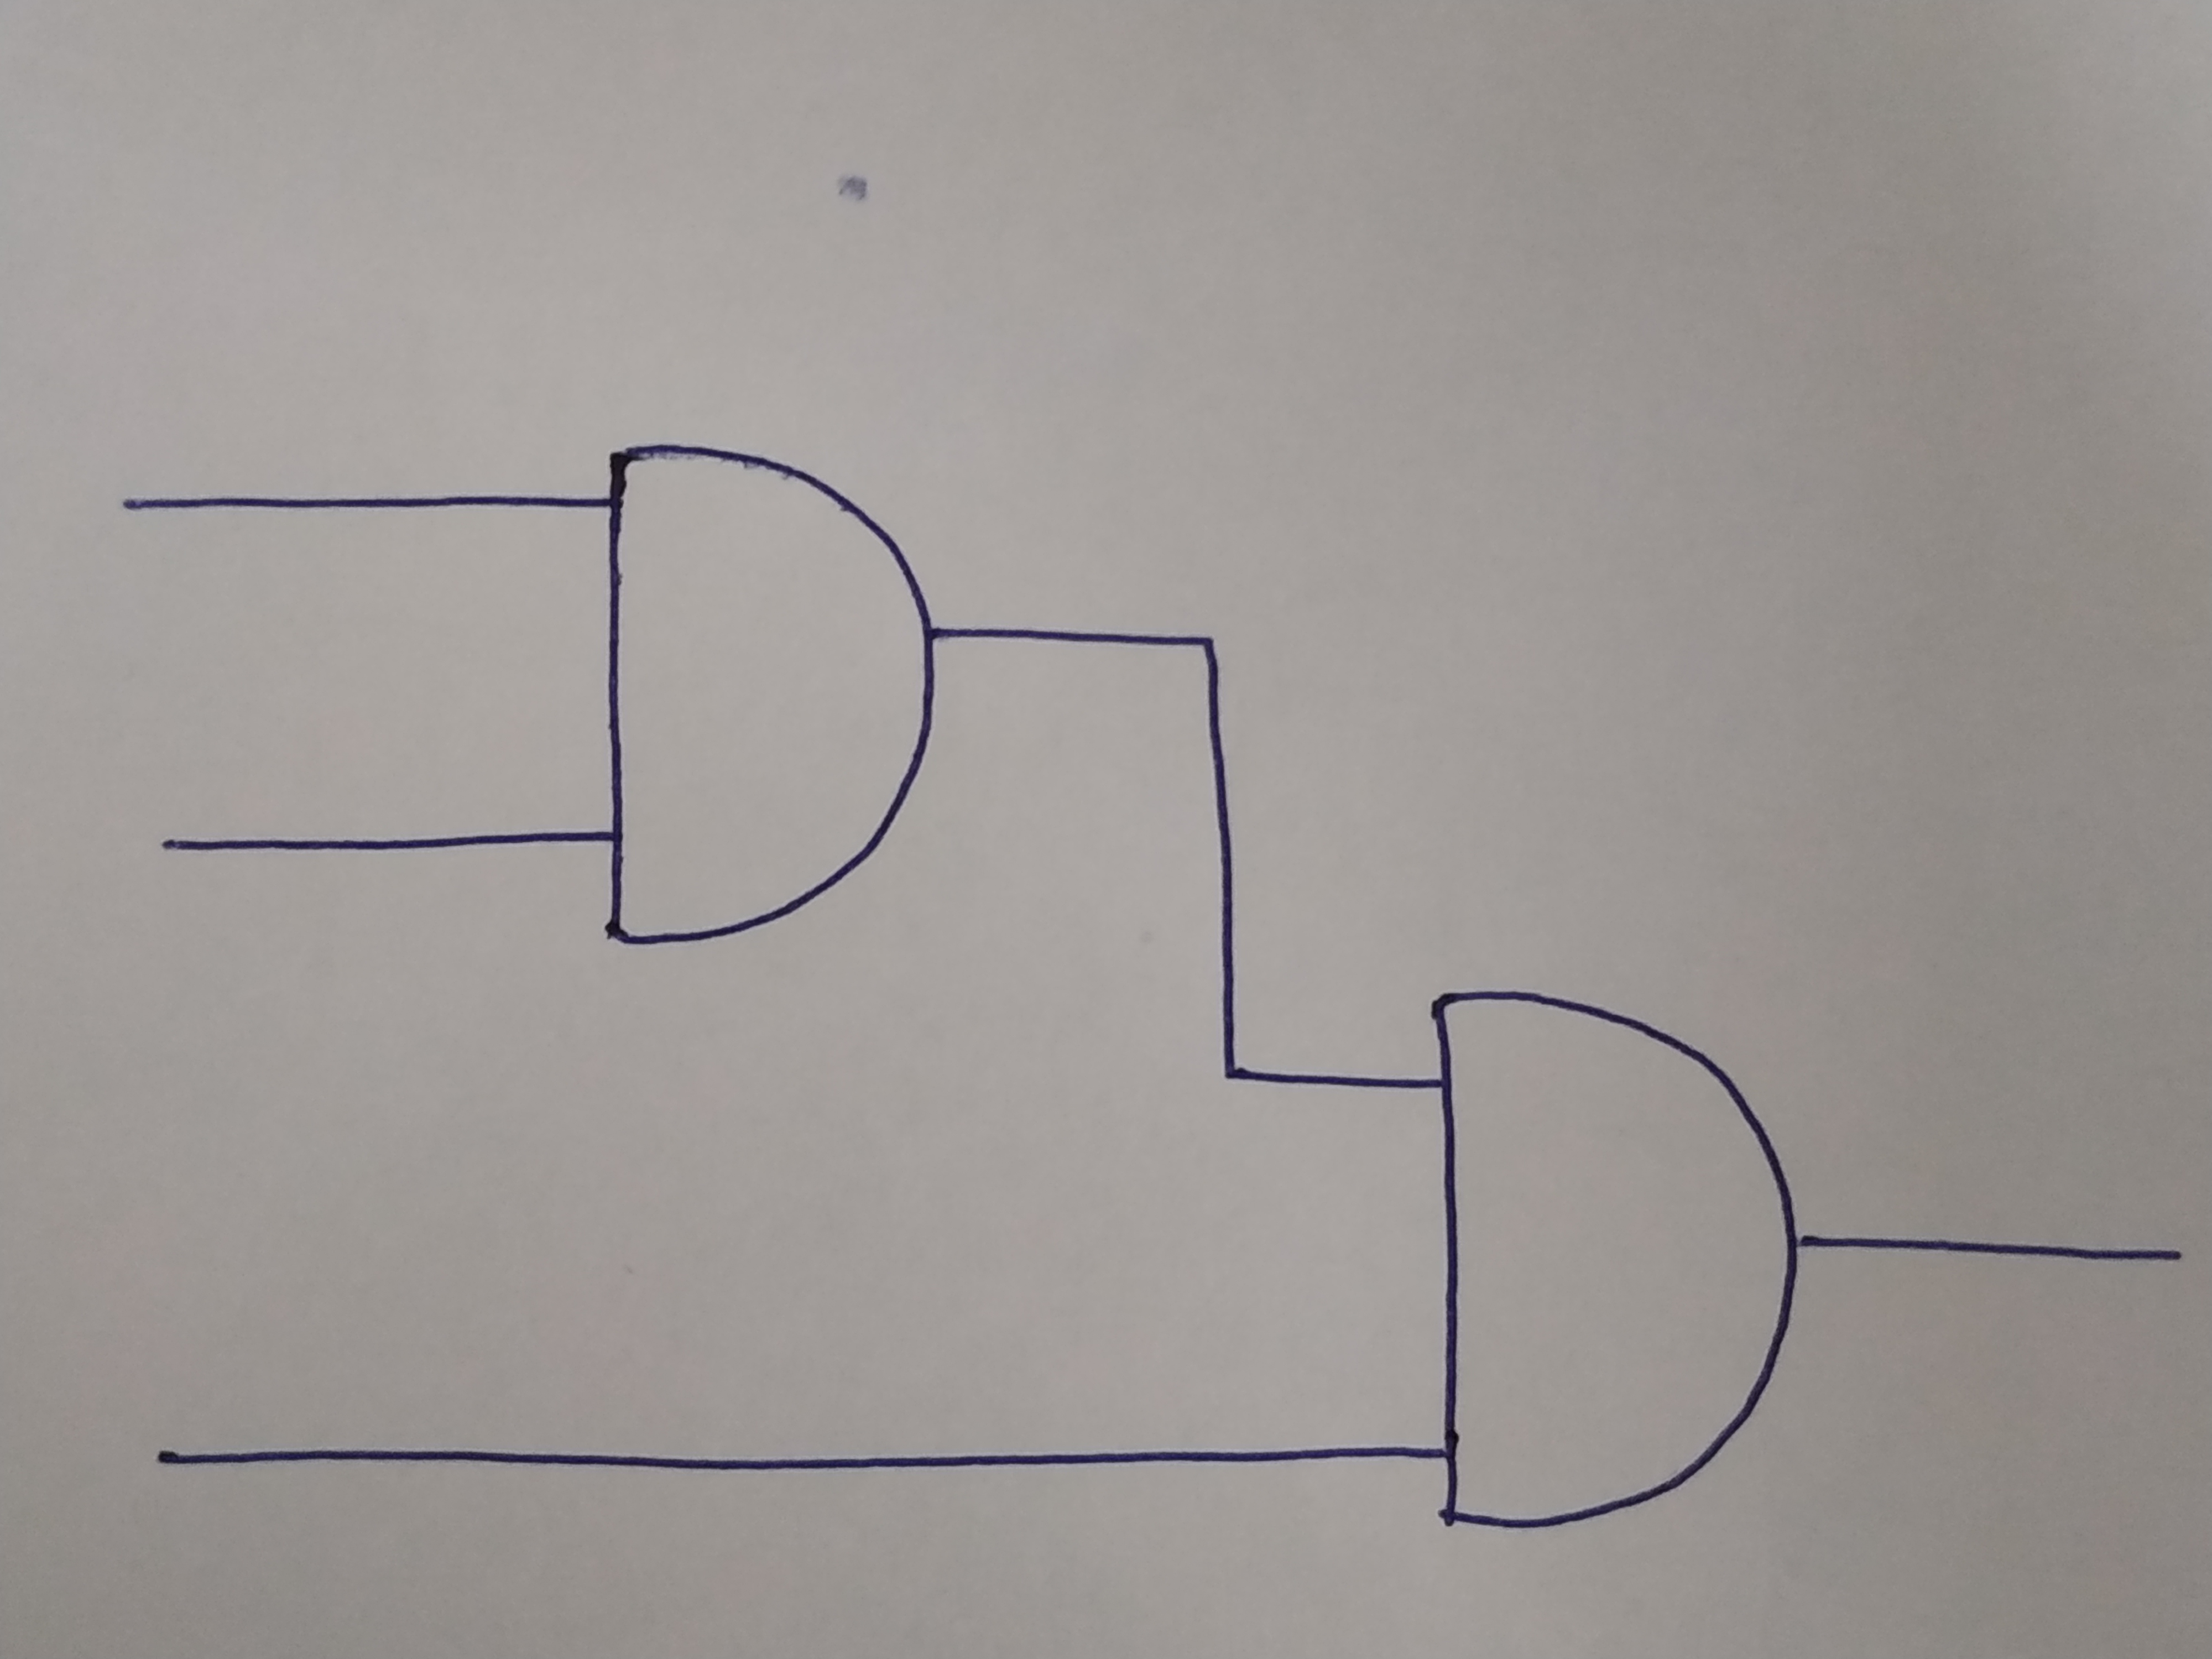and: (1435, 988, 1784, 1525), (610, 444, 921, 939)
